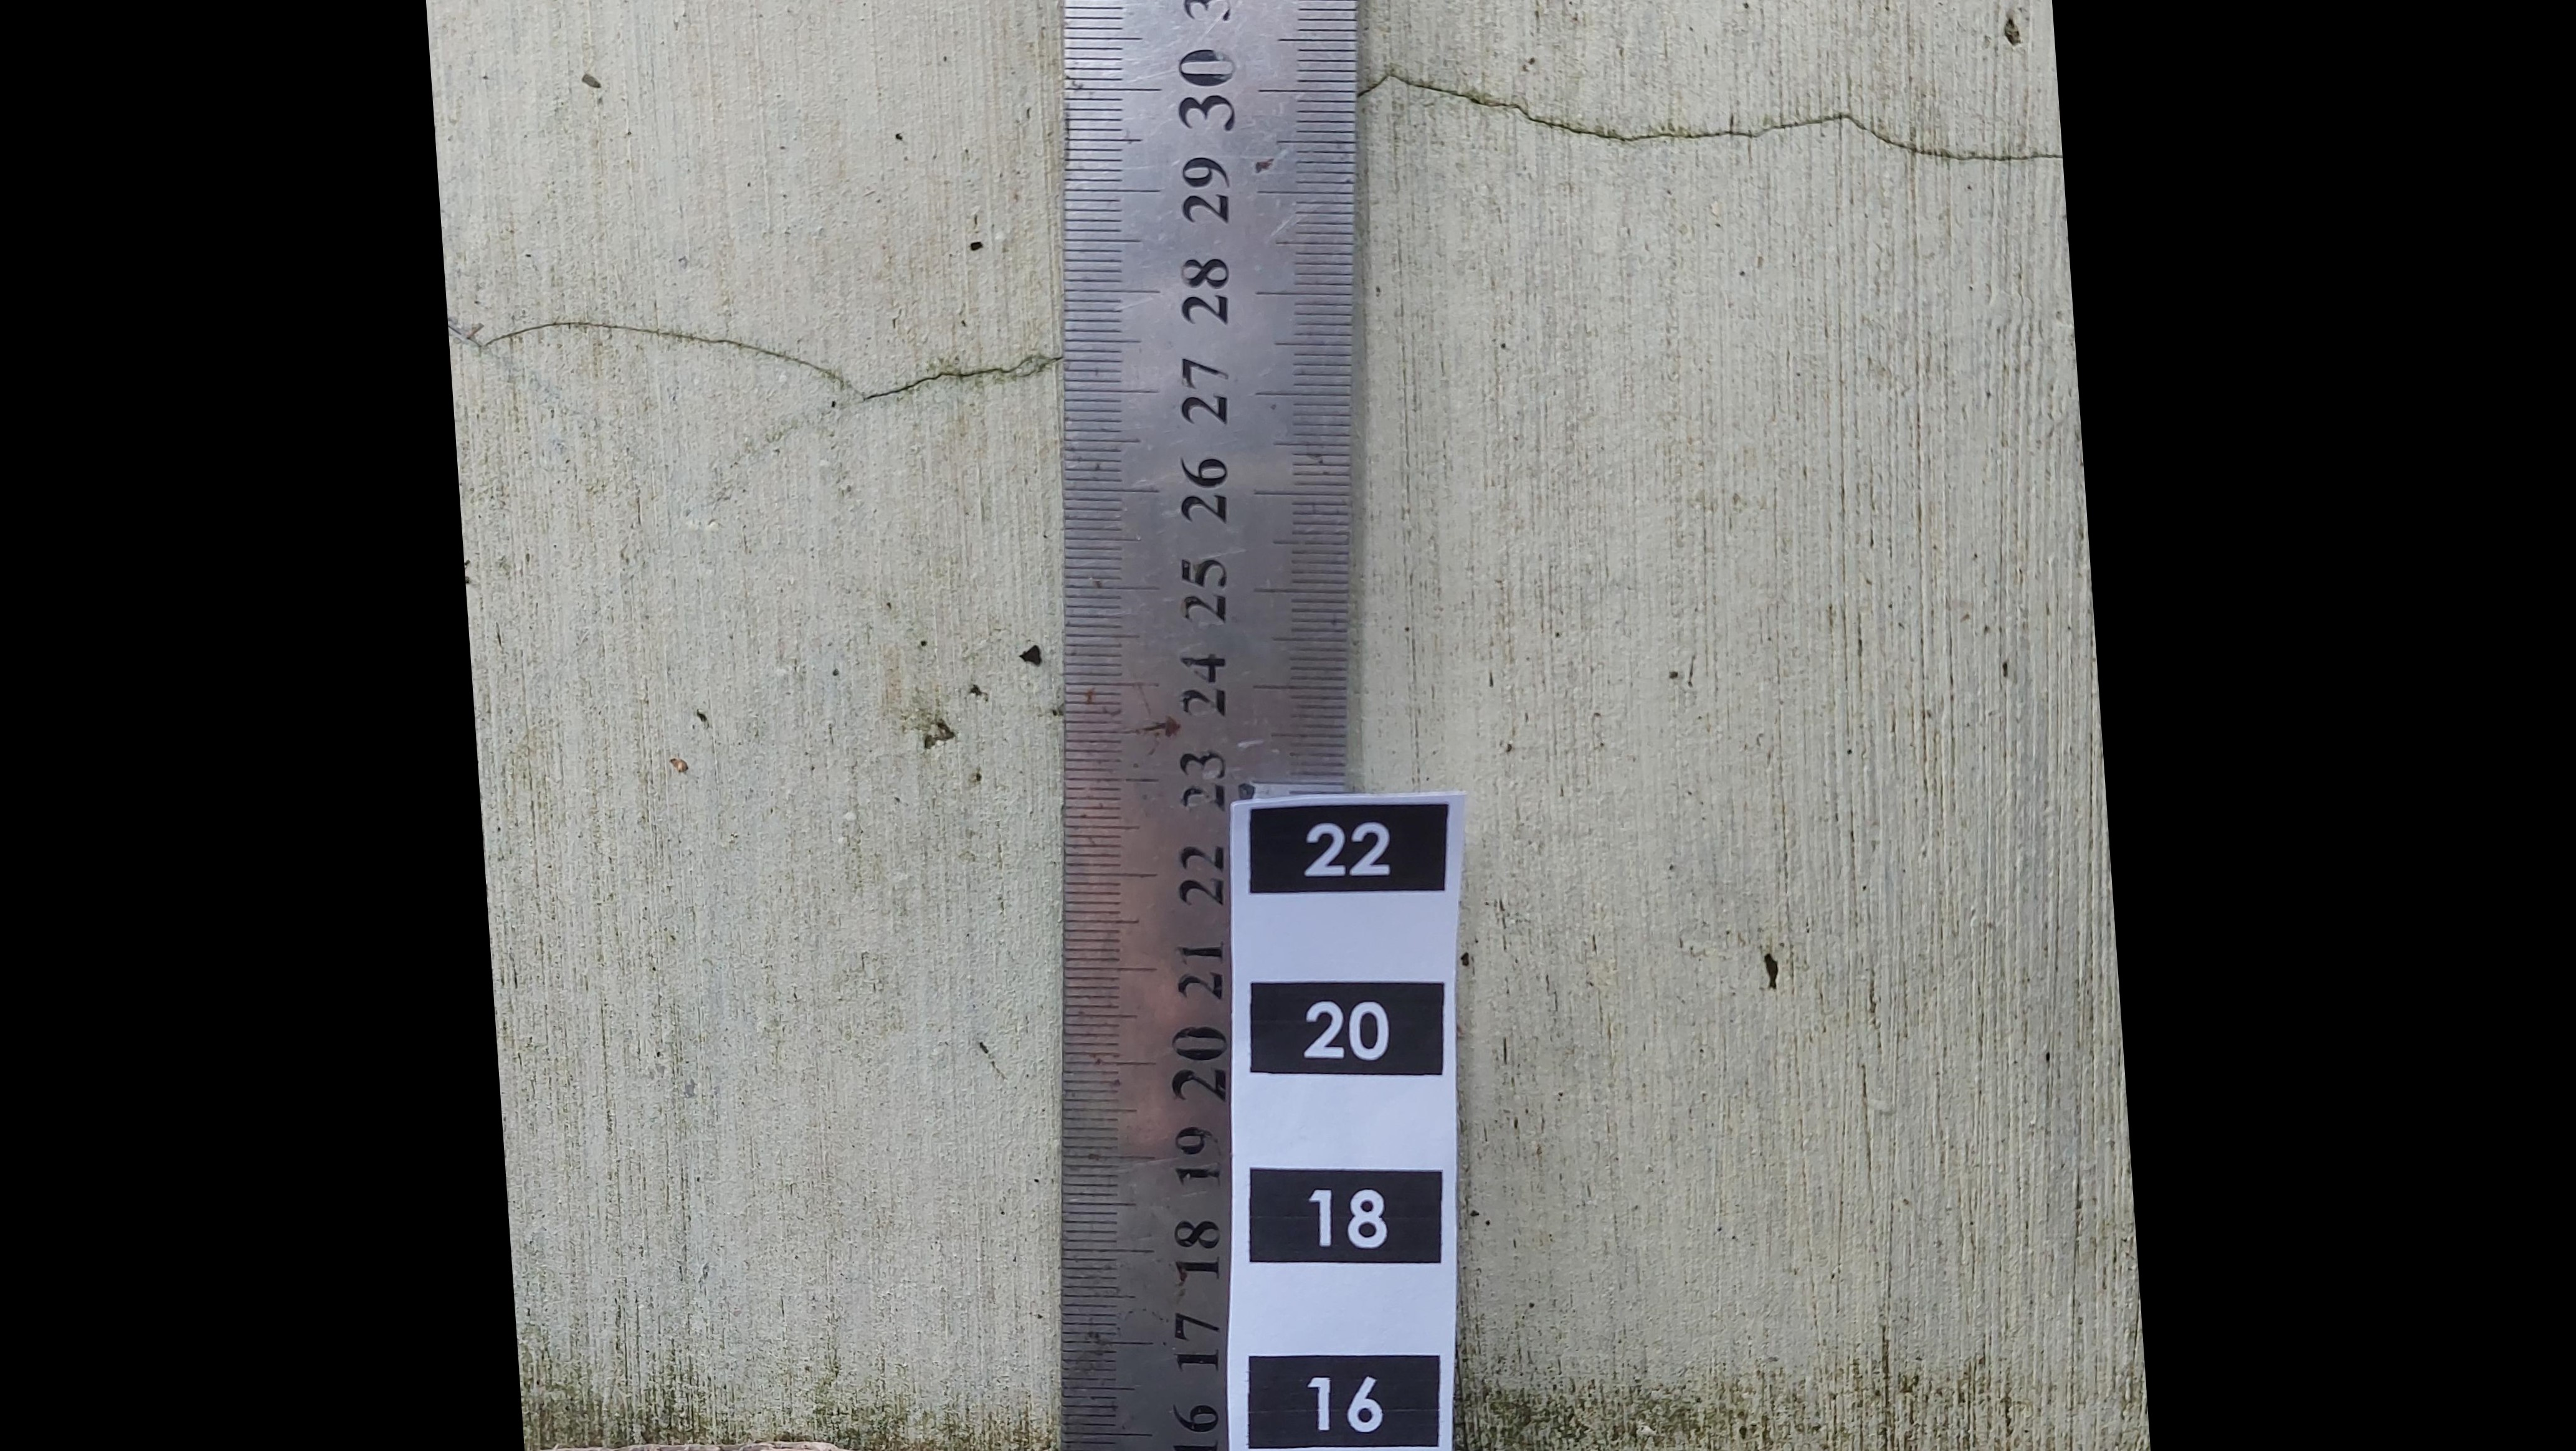kotak_2x1: (1251, 979, 1444, 1074), (1249, 1170, 1440, 1262), (1249, 805, 1444, 895)
